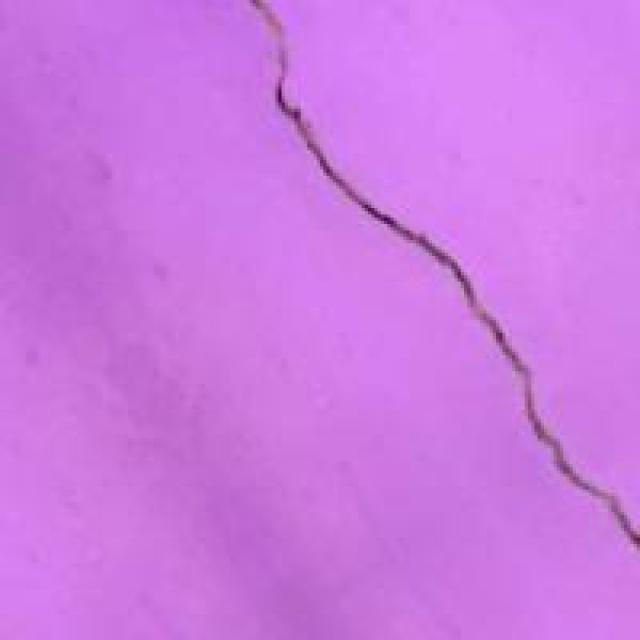crack: (256, 0, 637, 582)
